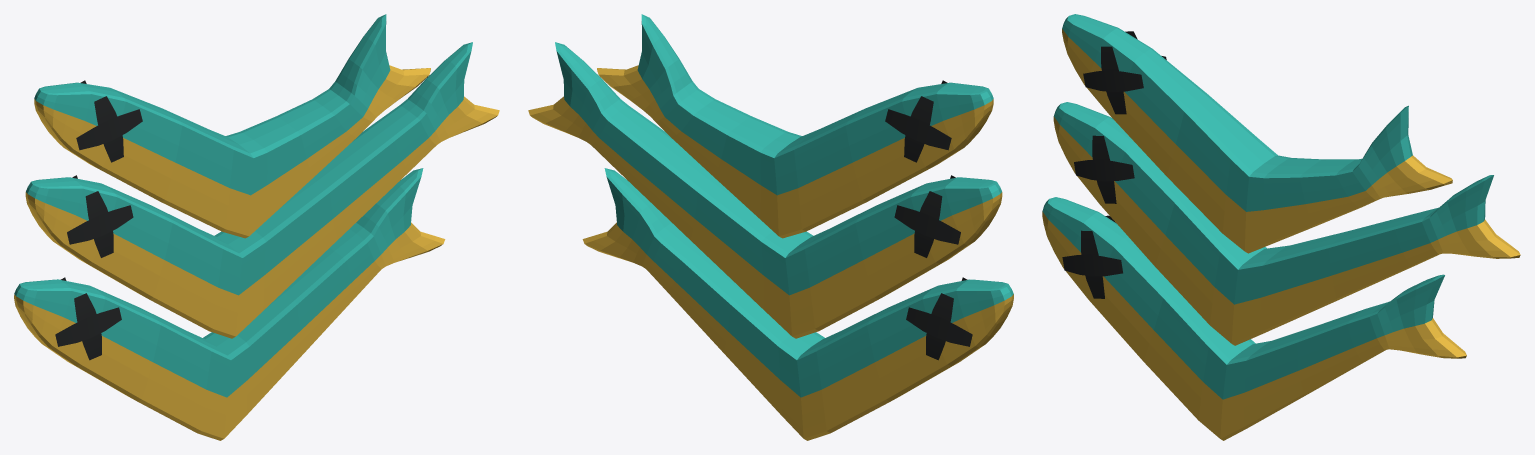
File: shimesaba.glb
3 views of the same model, side by side, from view 1: azimuth 30°, elevation 25°; view 2: azimuth 150°, elevation 25°; view 3: azimuth 330°, elevation 25° (orthographic).
Parts seen in each view (by area): view 1: FoodIngredient_Shimesaba; view 2: FoodIngredient_Shimesaba; view 3: FoodIngredient_Shimesaba.
Boxes of the visible parts, bbox=[...] form: FoodIngredient_Shimesaba: bbox=[14, 14, 499, 440]; FoodIngredient_Shimesaba: bbox=[528, 14, 1013, 440]; FoodIngredient_Shimesaba: bbox=[1042, 14, 1520, 440].
Bounding box in the file's own units: 0.771 × 0.5849 × 0.0817.
1 material, 1 textured.
